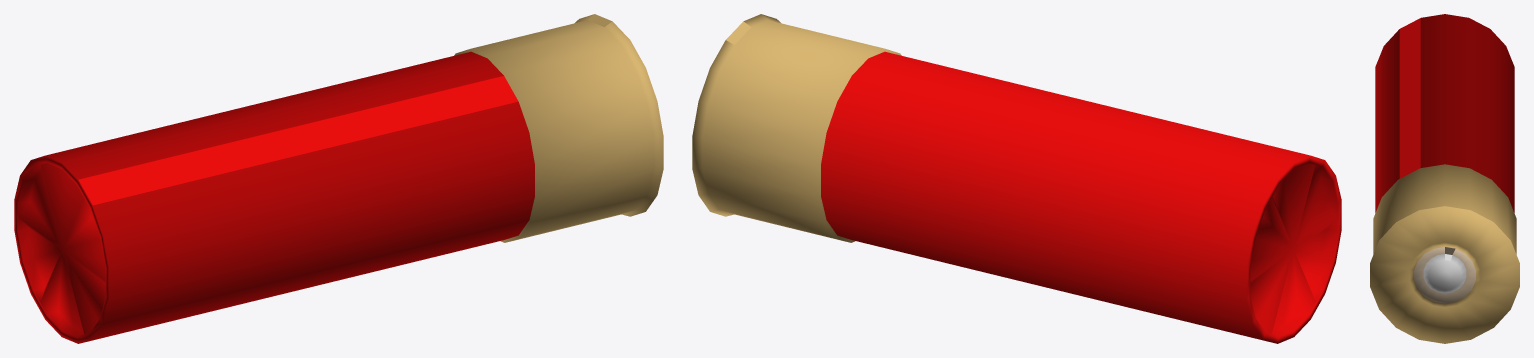
File: Shell.fbx
3 renders of one model, left to right at view 1: azimuth 30°, elevation 25°; view 2: azimuth 150°, elevation 25°; view 3: azimuth 270°, elevation 25°, orthographic. The views are drawn at different scales.
Visible parts, largest first — view 1: SHOTGUN_CART_OBJ:cylinder1_red, SHOTGUN_CART_OBJ:cylinder1_brass; view 2: SHOTGUN_CART_OBJ:cylinder1_red, SHOTGUN_CART_OBJ:cylinder1_brass; view 3: SHOTGUN_CART_OBJ:cylinder1_red, SHOTGUN_CART_OBJ:cylinder1_brass, SHOTGUN_CART_OBJ:cylinder1_brass2, SHOTGUN_CART_OBJ:cylinder1_white.
Boxes of the visible parts, box(x1,y1,x2,y2) form: SHOTGUN_CART_OBJ:cylinder1_red: box(14, 51, 534, 343); SHOTGUN_CART_OBJ:cylinder1_brass: box(454, 14, 663, 242); SHOTGUN_CART_OBJ:cylinder1_red: box(821, 51, 1341, 343); SHOTGUN_CART_OBJ:cylinder1_brass: box(692, 14, 901, 242); SHOTGUN_CART_OBJ:cylinder1_red: box(1375, 14, 1514, 212); SHOTGUN_CART_OBJ:cylinder1_brass: box(1370, 164, 1519, 343); SHOTGUN_CART_OBJ:cylinder1_brass2: box(1414, 247, 1475, 303); SHOTGUN_CART_OBJ:cylinder1_white: box(1423, 254, 1466, 293).
Size of the model in its own units: 0.2166 by 0.07 by 0.0689.
